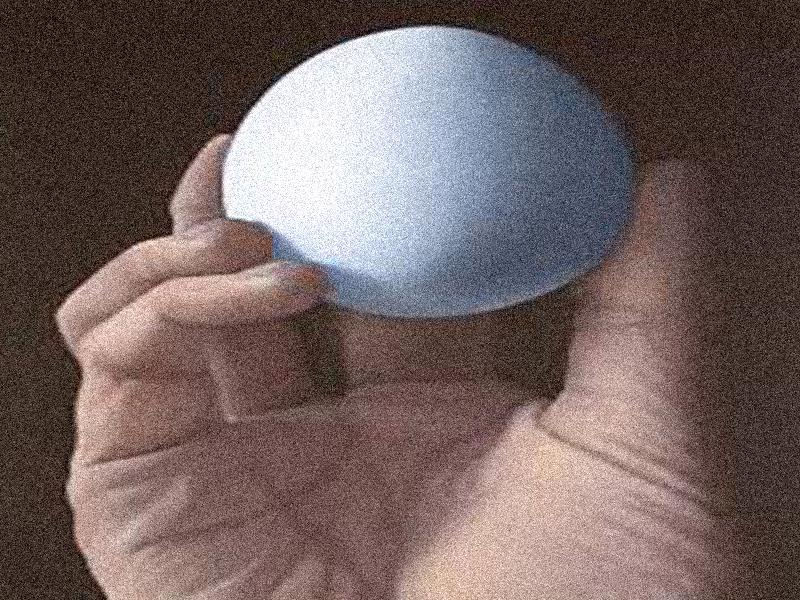Eggs: (218, 23, 630, 314)
